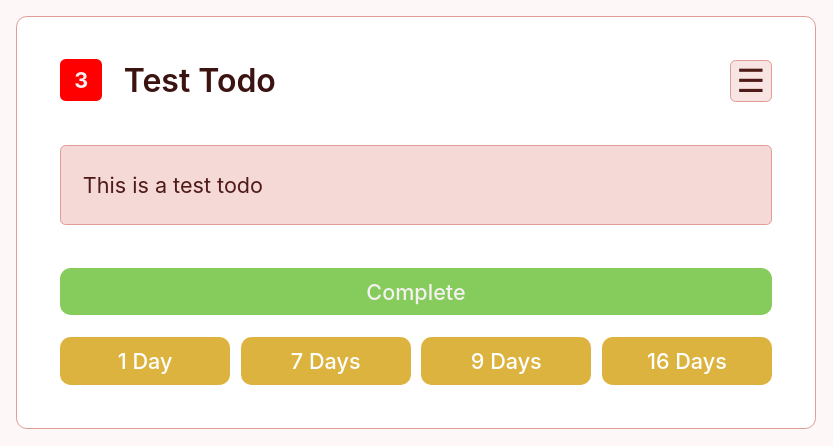
Test: FocusedTodo.svelte › should show delete confirmation when Delete Todo is clicked
Click the button named "Menu". click: (751, 81)
box: left=730, top=60, right=772, bottom=102
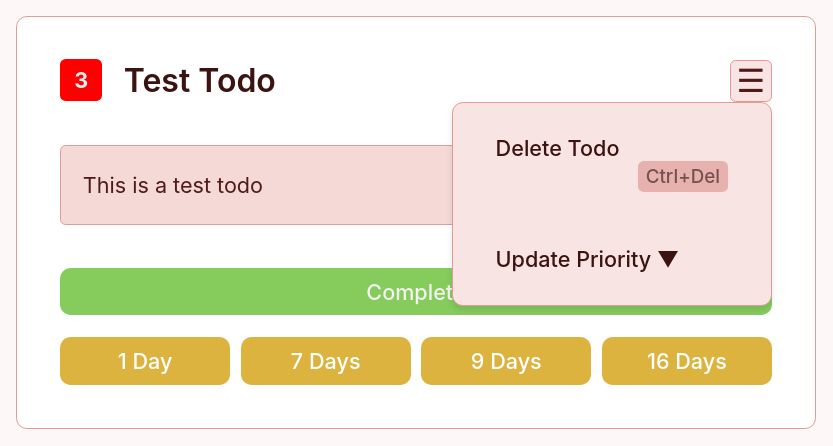
Click the button "Delete Todo Ctrl+Del". click: (612, 164)
box: left=464, top=114, right=760, bottom=214
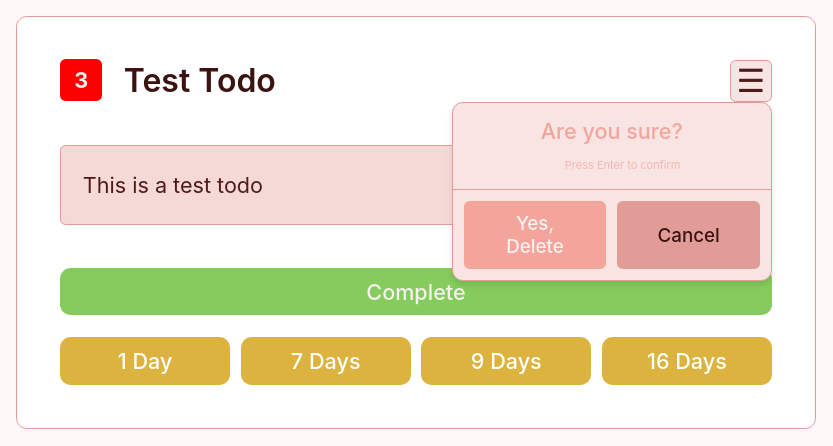
Result: the text "Are you sure?" is shown at left=541, top=118, right=683, bottom=144
Result: the button "Yes, Delete" is shown at left=464, top=201, right=606, bottom=269
Result: the button "Cancel" is shown at left=617, top=201, right=760, bottom=269
